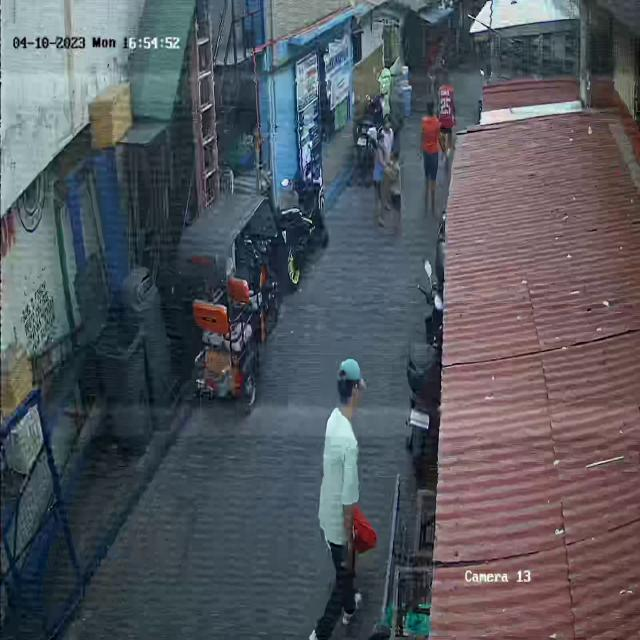human: (308, 359, 376, 640)
trash: (351, 496, 376, 556)
